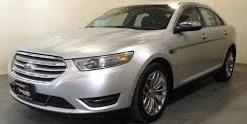Cars: (11, 4, 236, 123)
